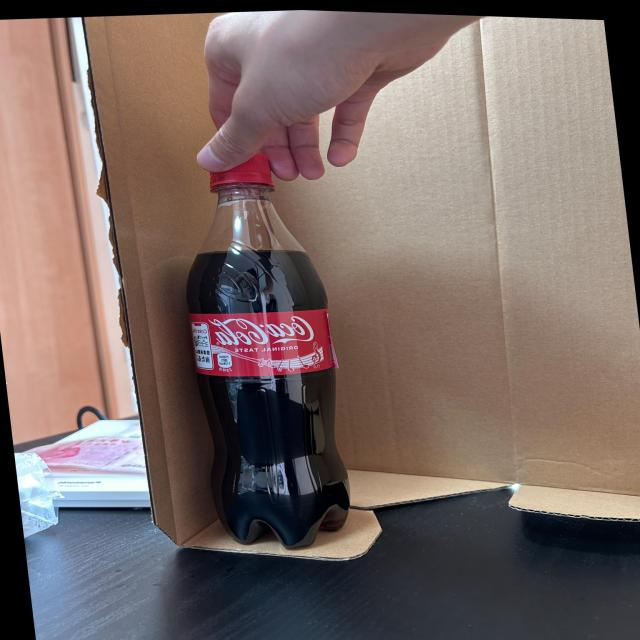high: (187, 154, 350, 549)
